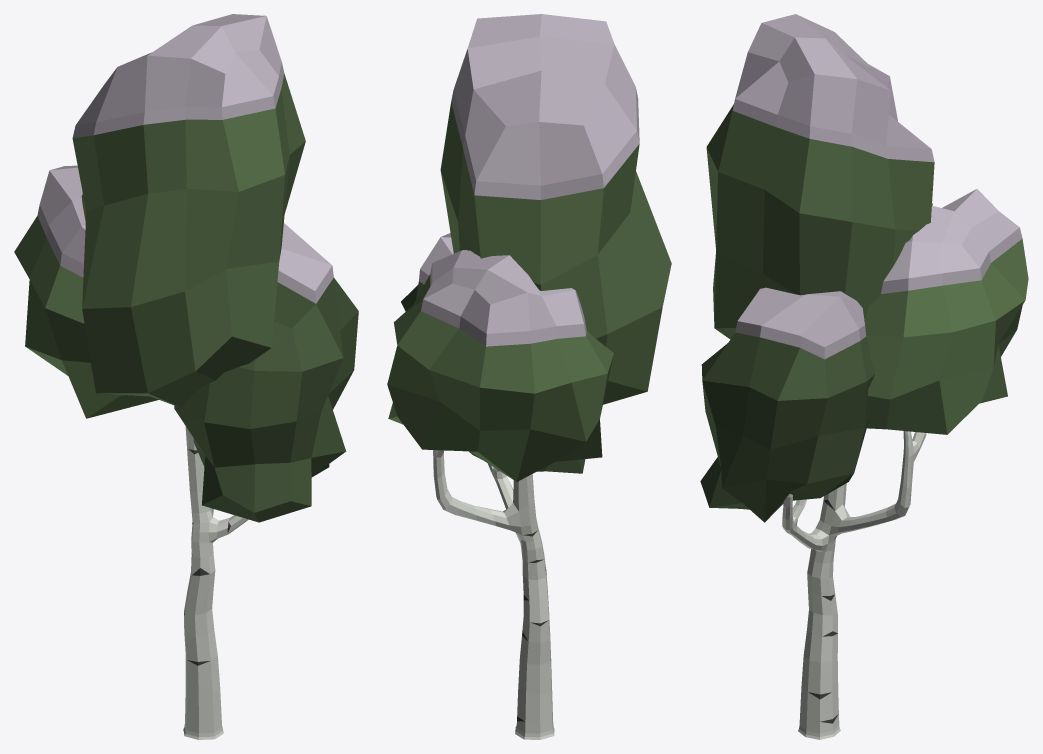
Rendered from birchtree_snow_3.glb.
3 views of the same model, side by side, from view 1: azimuth 30°, elevation 25°; view 2: azimuth 150°, elevation 25°; view 3: azimuth 270°, elevation 25° (orthographic). The views are drawn at different scales.
Parts seen in each view (by area): view 1: BirchTree_Snow_3; view 2: BirchTree_Snow_3; view 3: BirchTree_Snow_3.
Boxes of the visible parts, box(x1,y1,x2,y2) form: BirchTree_Snow_3: box(14, 14, 358, 739); BirchTree_Snow_3: box(387, 14, 671, 739); BirchTree_Snow_3: box(700, 14, 1028, 739).
Size of the model in its own units: 1.57 by 4.15 by 1.77.
